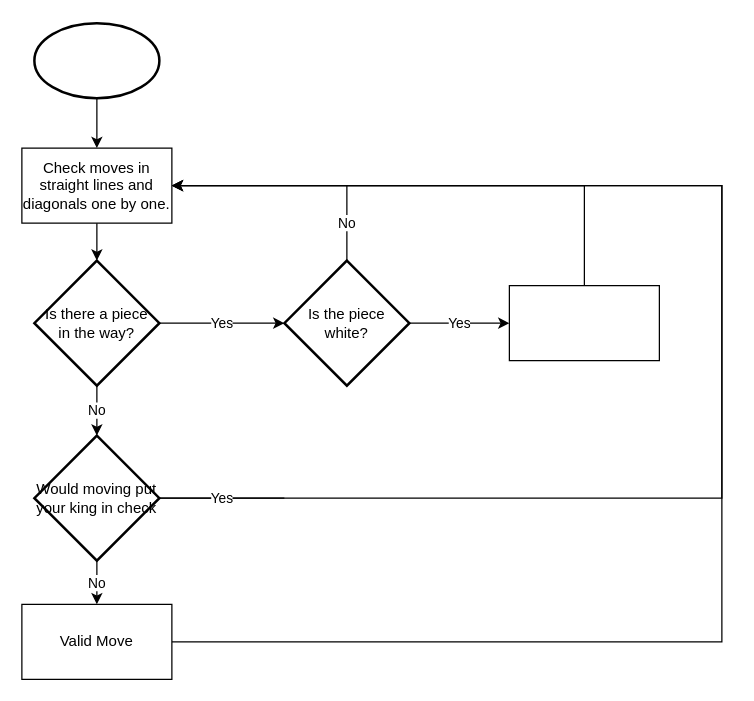
Image size: 754x701. Some labels were removed from this diagram. Here are the shapes that lost their labels. From the top down, the centre of each, then its label:
At (96,60): "Start".
At (583,322): "Valid move. Don't check further moves in directionl".
